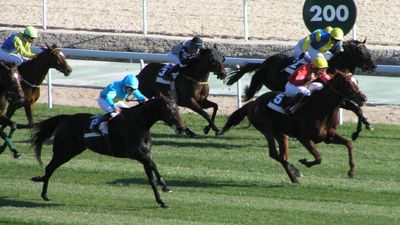person: (91, 74, 152, 136), (284, 55, 336, 113), (166, 34, 209, 80)
